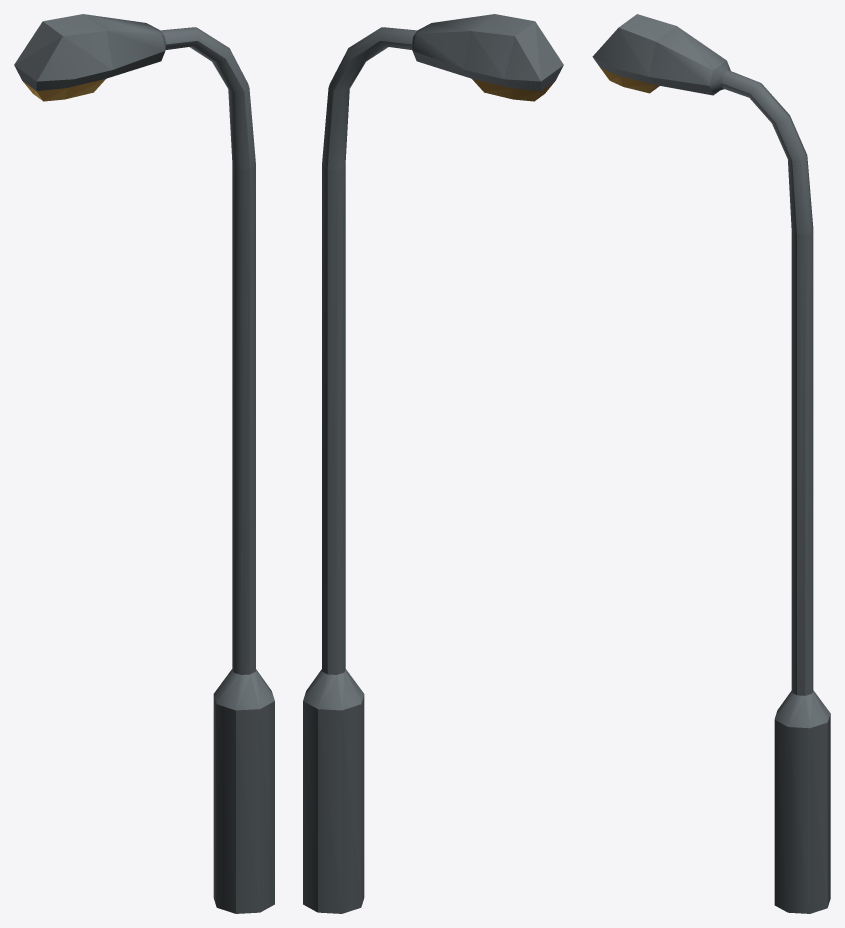
File: kk_city_streetlight.glb
3 views of the same model, side by side, from view 1: azimuth 30°, elevation 25°; view 2: azimuth 150°, elevation 25°; view 3: azimuth 330°, elevation 25° (orthographic). The views are drawn at different scales.
Parts seen in each view (by area): view 1: kk_city_streetlight; view 2: kk_city_streetlight; view 3: kk_city_streetlight.
Part boxes in pixels (x1,y1,x2,y2): kk_city_streetlight: (14, 14, 274, 913); kk_city_streetlight: (303, 14, 563, 913); kk_city_streetlight: (592, 14, 830, 913).
Bounding box in the file's own units: 0.2693 × 0.9599 × 0.069.
